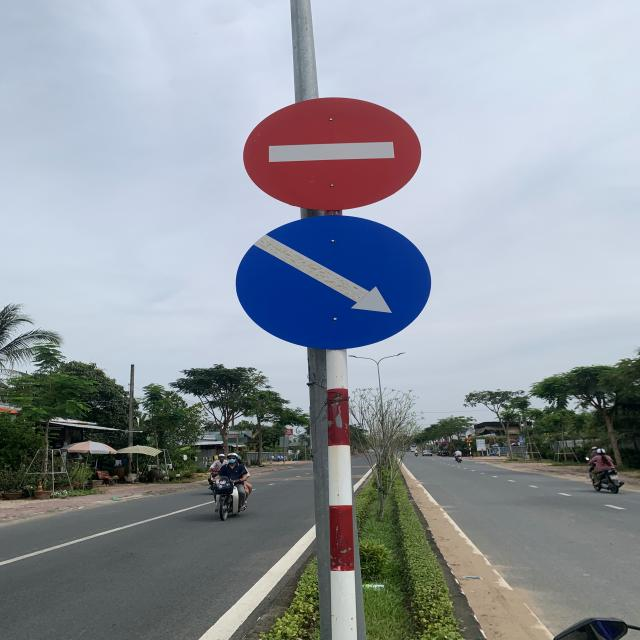Cam_Di_Nguoc_Chieu: (244, 93, 426, 211)
Chi_Huong_Di_Phai: (238, 217, 432, 351)
